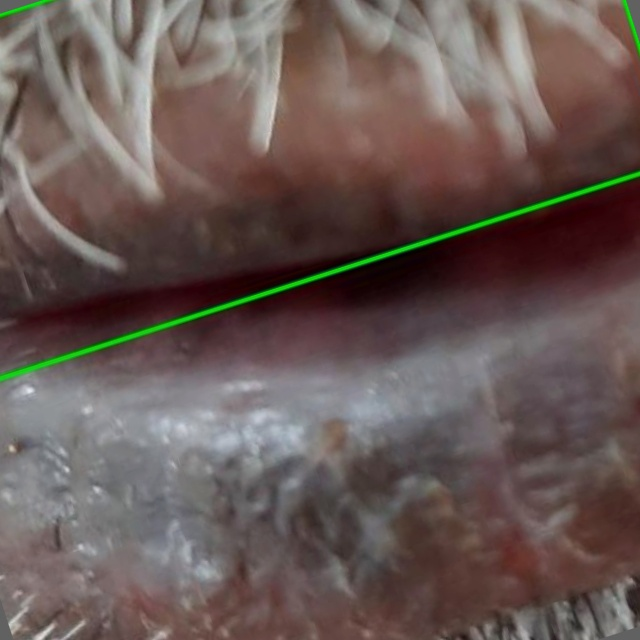Contact Dermatitis: (0, 0, 639, 379)
